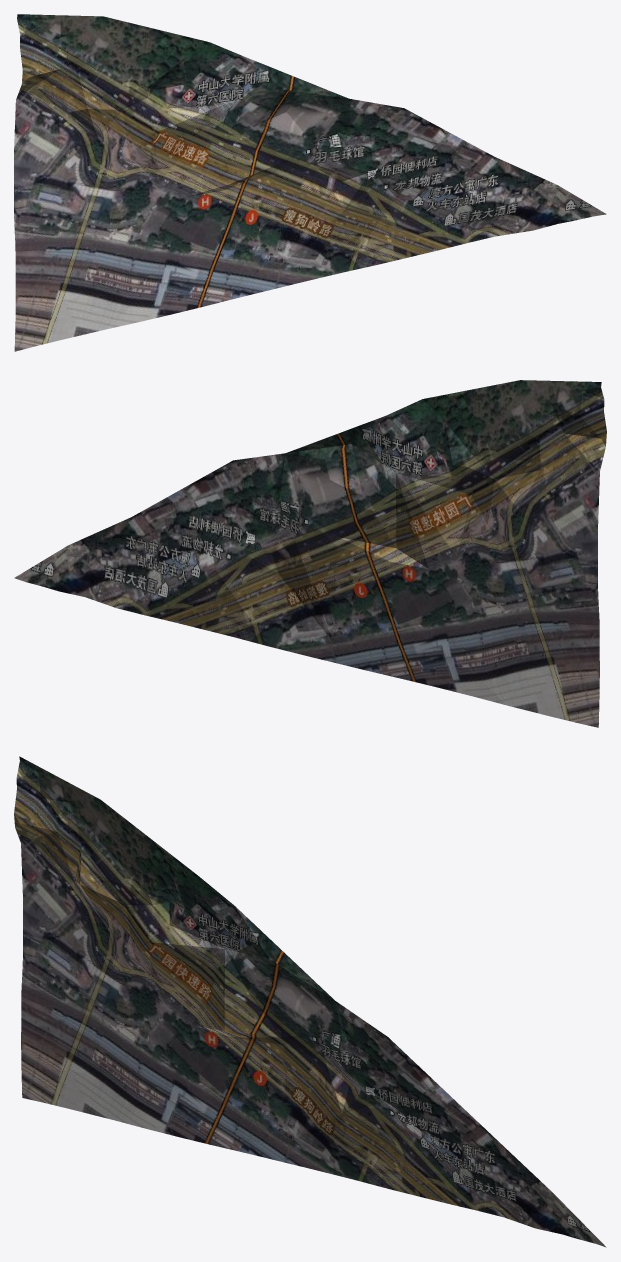
The picture shows the model from 3 angles, top to bottom: view 1: azimuth 30°, elevation 25°; view 2: azimuth 150°, elevation 25°; view 3: azimuth 330°, elevation 25°; orthographic projection.
Parts seen in each view (by area): view 1: 0_1_0_2_2; view 2: 0_1_0_2_2; view 3: 0_1_0_2_2.
Part boxes in pixels (<box>): 0_1_0_2_2: <box>14,14,606,351</box>; 0_1_0_2_2: <box>14,380,606,727</box>; 0_1_0_2_2: <box>14,756,606,1247</box>.
Size of the model in its own units: 692 by 384 by 33.6.
Materials: 1 (1 with a texture image).
